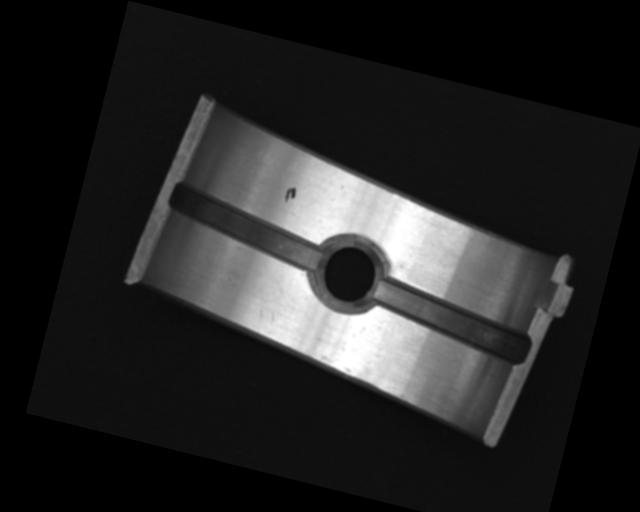blot: (282, 184, 297, 205)
gap: (362, 273, 538, 367), (161, 182, 330, 276)
hole: (306, 232, 387, 317)
